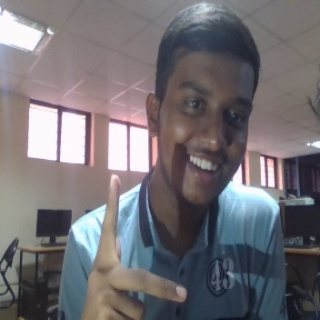Face: (144, 3, 262, 208)
